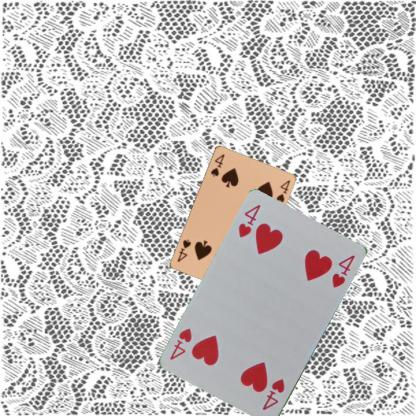4h: (259, 376, 286, 412), (236, 202, 262, 239)
4s: (208, 151, 226, 177)
